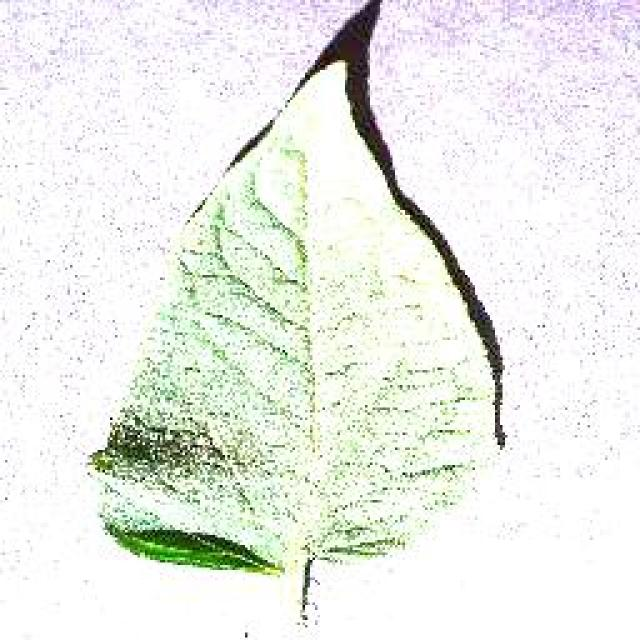Tomato___healthy: (76, 57, 506, 633)
